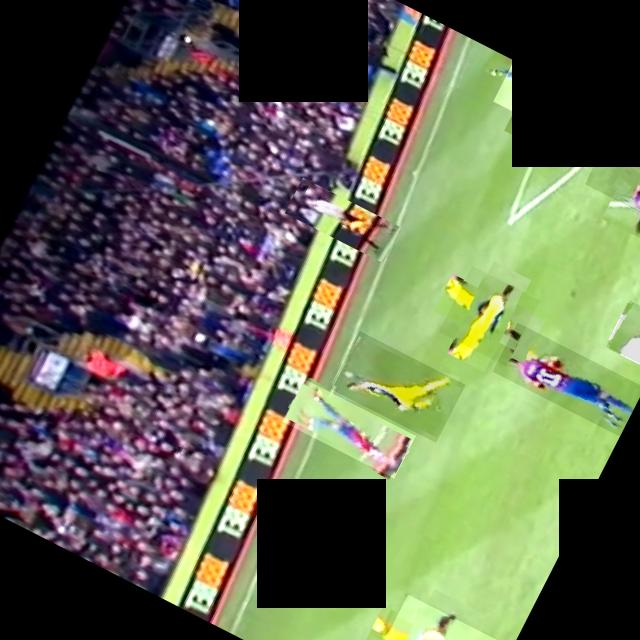referee: (606, 299, 640, 369)
soccer-player: (493, 322, 640, 436), (330, 330, 466, 442), (282, 378, 416, 478), (439, 266, 540, 366), (285, 176, 401, 262), (585, 114, 640, 232), (363, 593, 497, 640), (494, 60, 576, 132)
